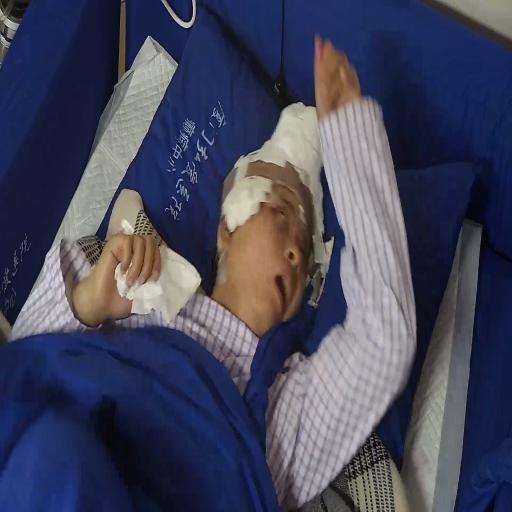Seizure: (225, 153, 316, 330)
